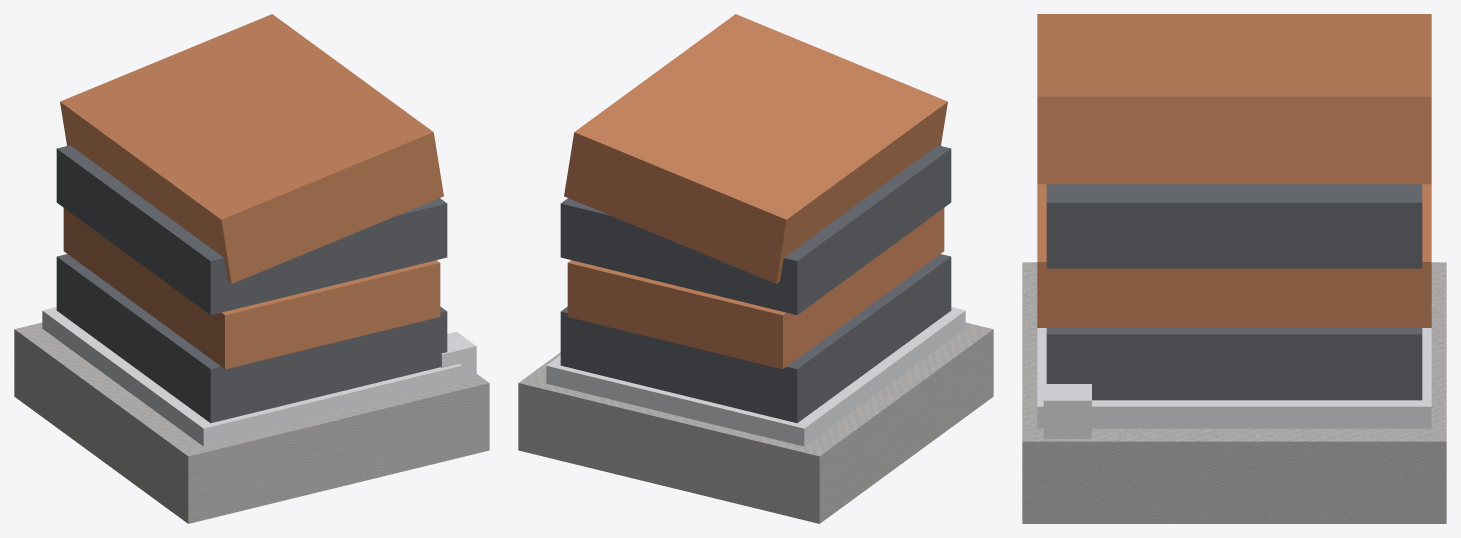
File: shipyard-and-dry-dock-shipyard-and-dry-dock-bilge-bloc-0129bbb4__37931.glb
The picture shows the model from 3 angles, left to right: view 1: azimuth 30°, elevation 25°; view 2: azimuth 150°, elevation 25°; view 3: azimuth 270°, elevation 25°; orthographic projection. The views are drawn at different scales.
Parts seen in each view (by area): view 1: shipyard-and-dry-dock-bilge-block; view 2: shipyard-and-dry-dock-bilge-block; view 3: shipyard-and-dry-dock-bilge-block.
Boxes of the visible parts, x1=… form: shipyard-and-dry-dock-bilge-block: x1=14, y1=14, x2=489, y2=523; shipyard-and-dry-dock-bilge-block: x1=518, y1=14, x2=993, y2=523; shipyard-and-dry-dock-bilge-block: x1=1022, y1=14, x2=1446, y2=523.
Bounding box in the file's own units: 1.4 × 1.45 × 1.4.
4 materials, 1 textured.
